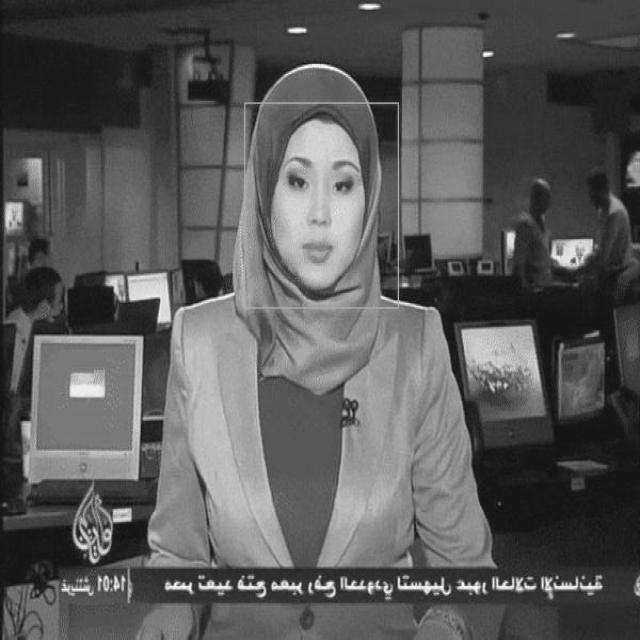fake: (244, 107, 398, 307)
